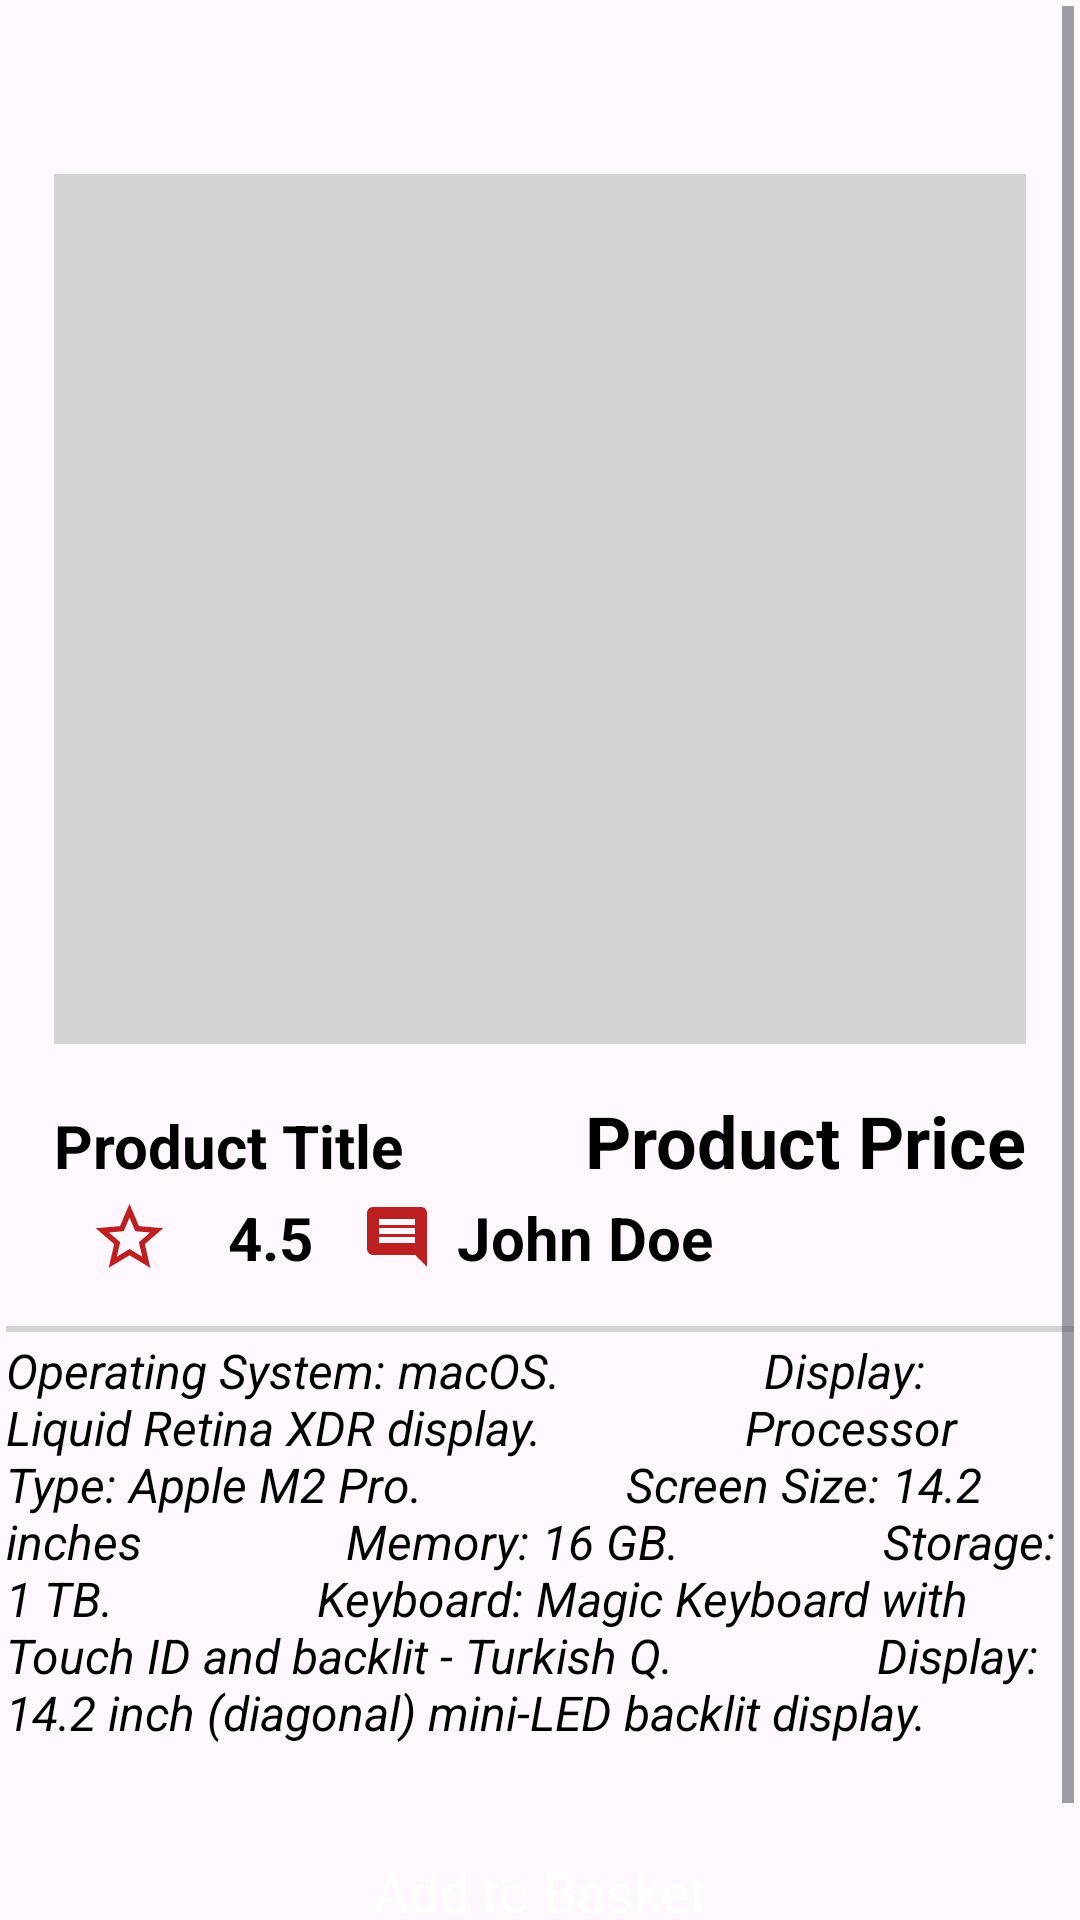

Locate icon controls on the screen. Image size 1080px×1920px, boxes as (x1, y1, x2, y2).
comment: (367, 1207, 427, 1267)
star border: (96, 1204, 163, 1268)
